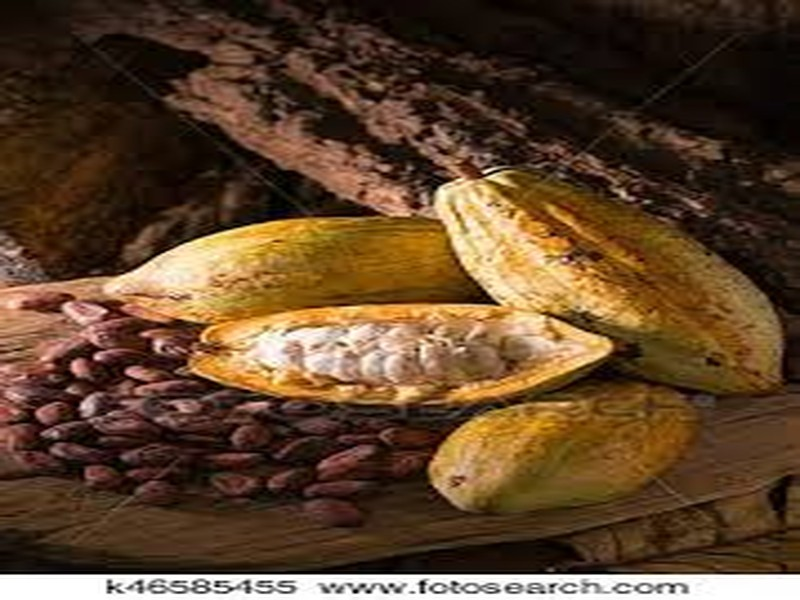Cacaopod: (438, 153, 784, 391)
